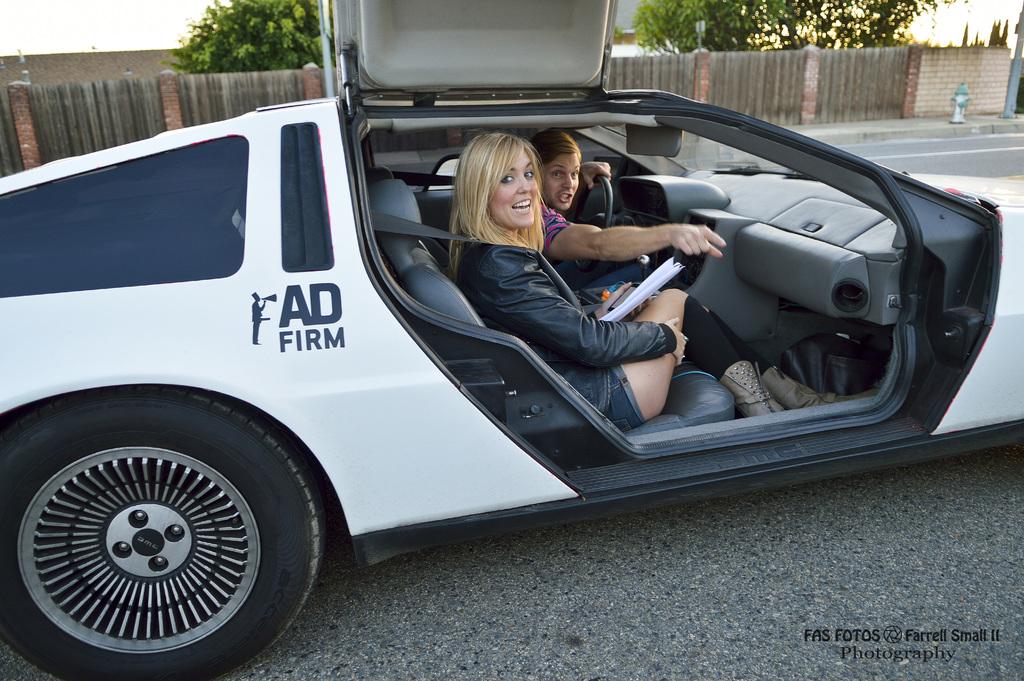Car: (53, 67, 960, 618)
